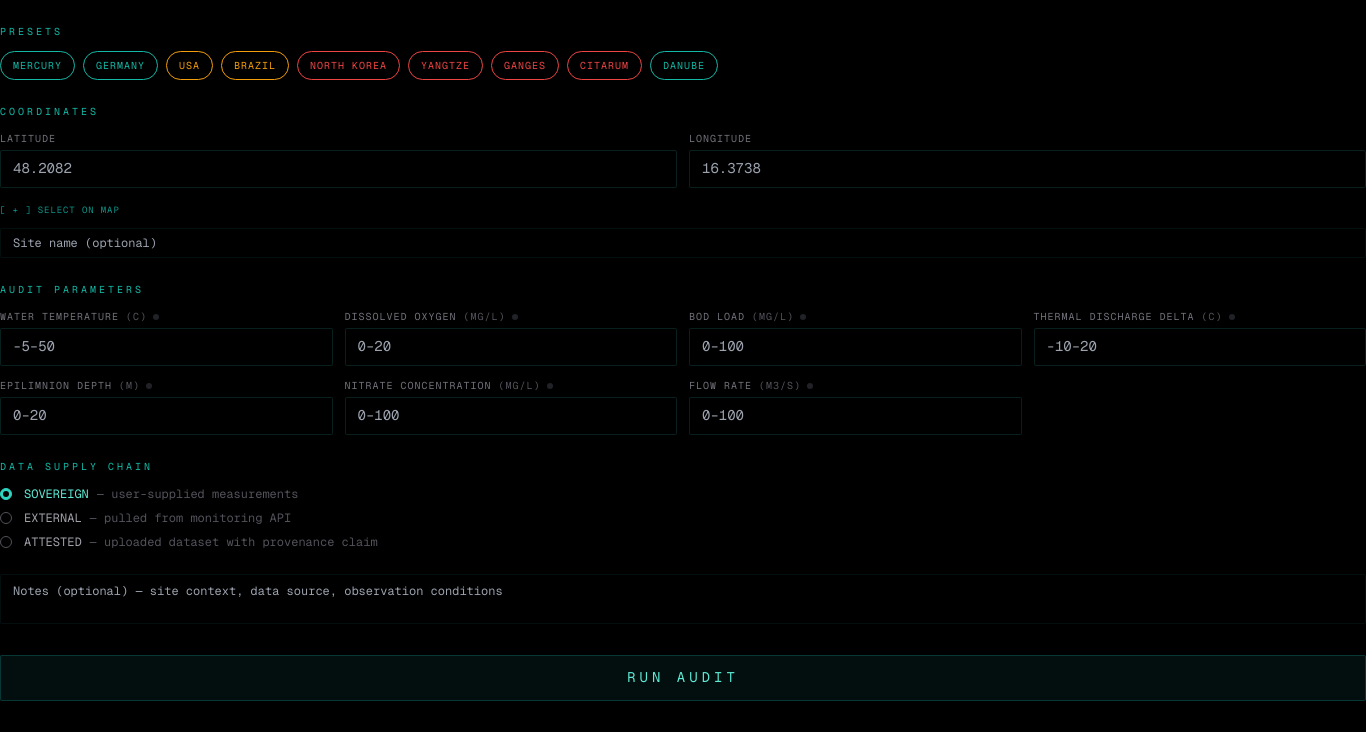
Test case: SubmissionForm coordinates at submit › never submits a latitude past 90
This screenshot has width=1366, height=732.
Click the button "GERMANY": click(120, 66) [83,51,158,80]
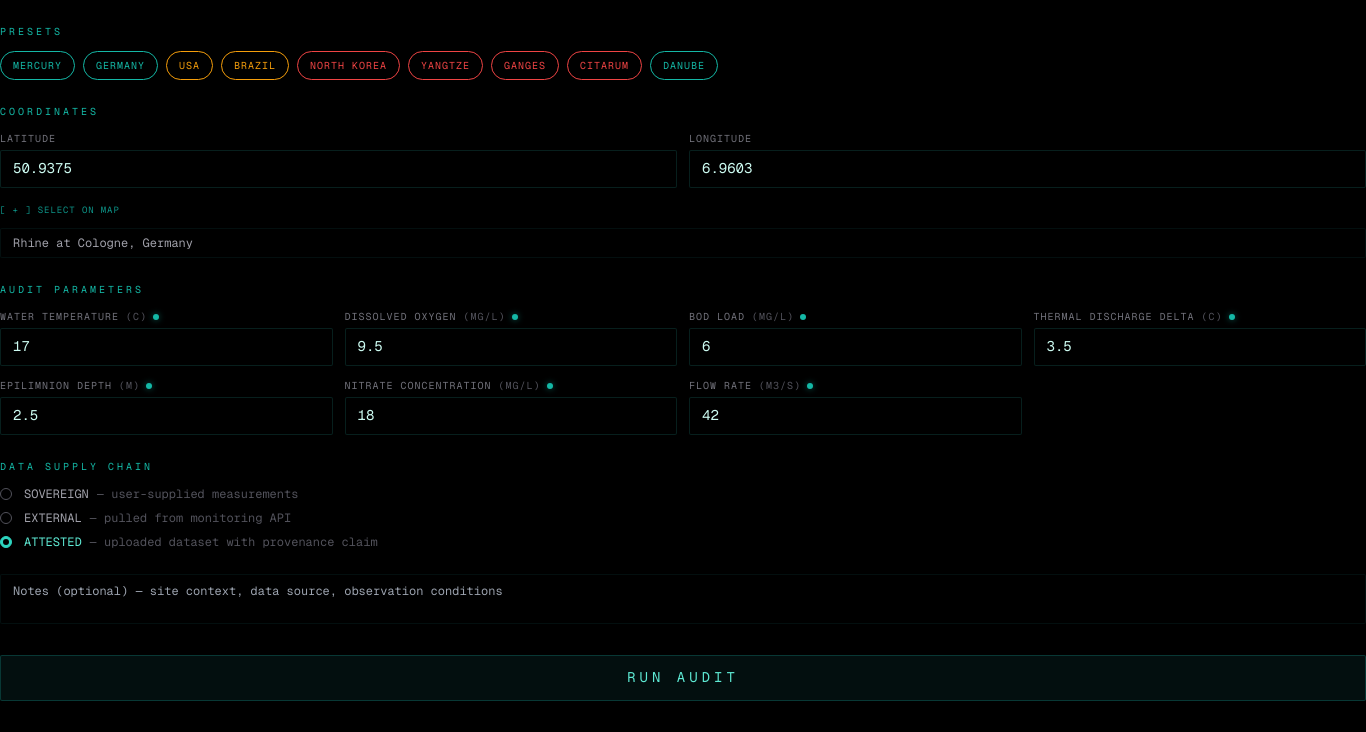
Replace the text in the number field below "Latitude" with "95": (338, 169) [0,150,677,188]
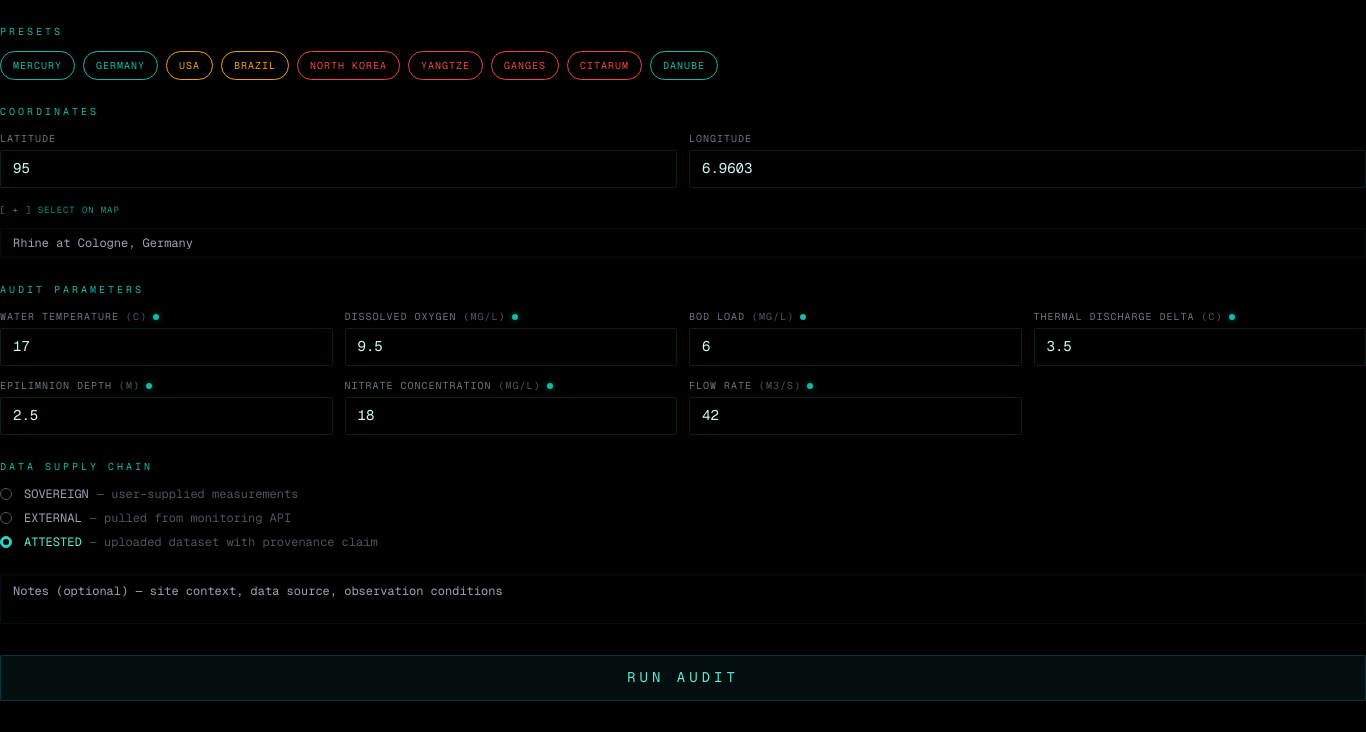
Replace the text in the number field below "Longitude" with "13.4": (1028, 169) [689,150,1365,188]
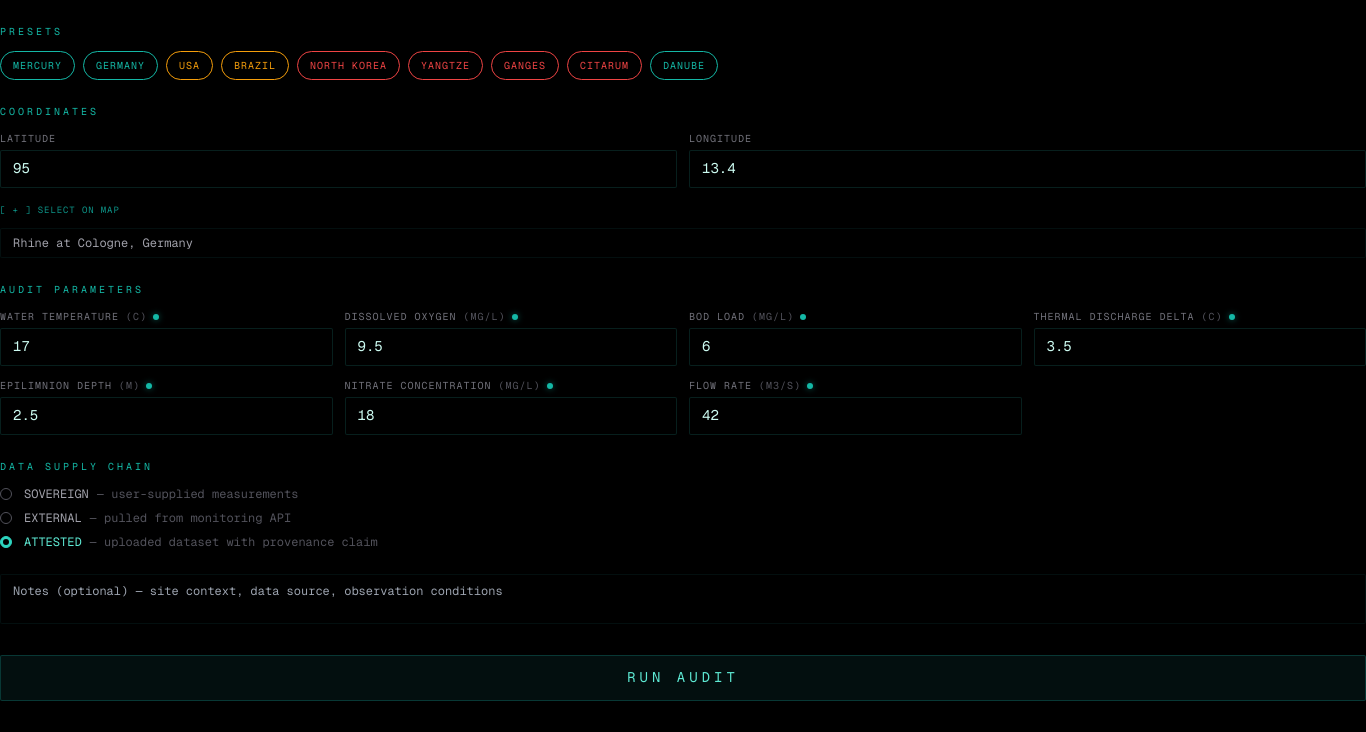
Click the button "RUN AUDIT": click(683, 678) [0,655,1365,701]
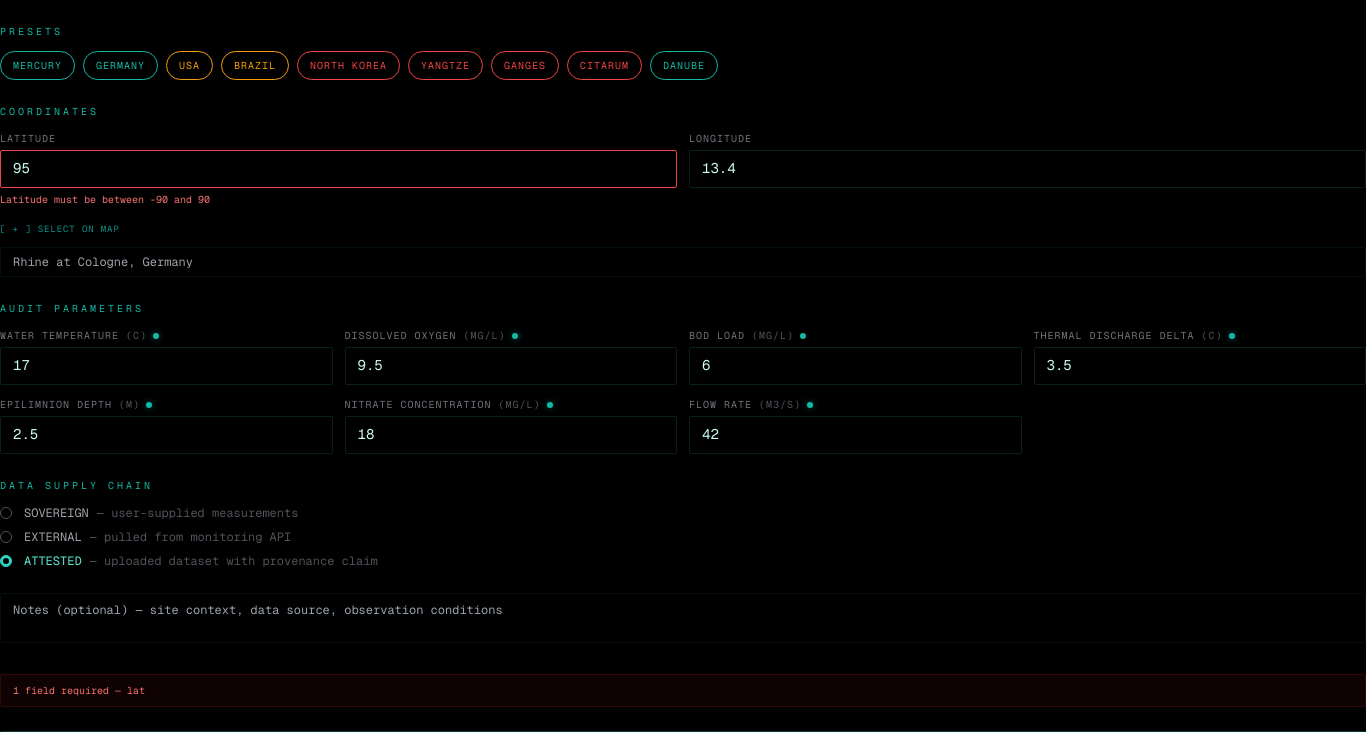
Check: the text "Latitude must be between -90 and 90" is shown, box [0,193,210,206]
